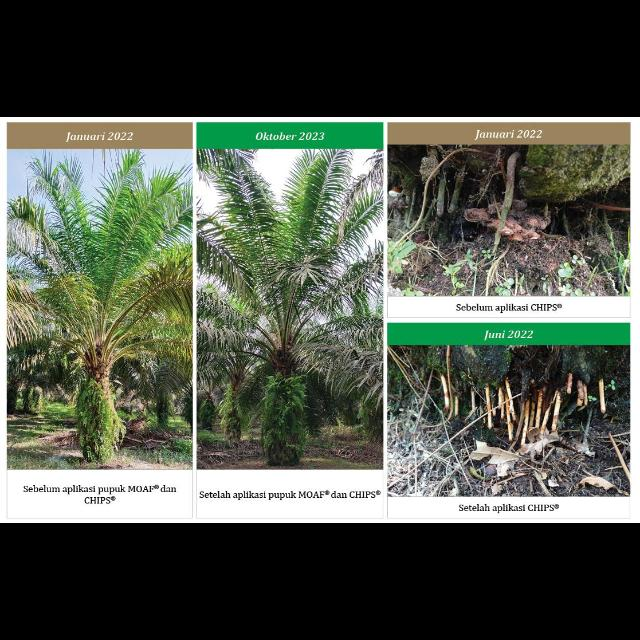ganoderma: (465, 201, 554, 243), (390, 184, 407, 200)
